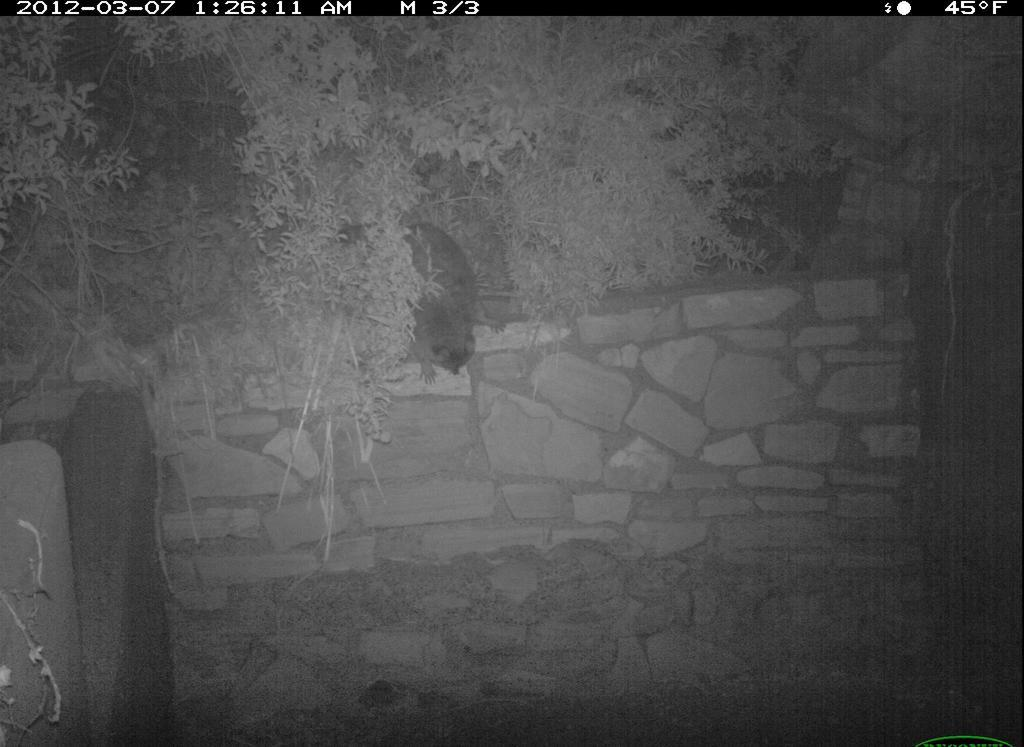raccoon: (340, 212, 488, 393)
